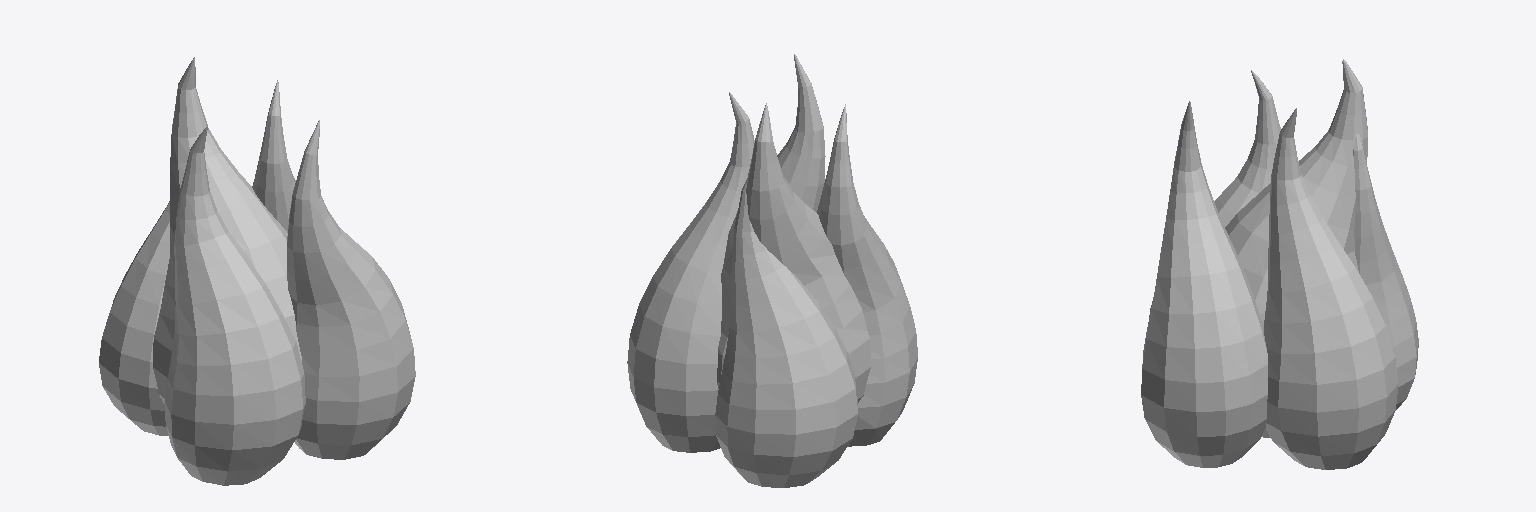
The model's file is fire_000068.obj.
The picture shows the model from 3 angles: view 1: azimuth 30°, elevation 25°; view 2: azimuth 150°, elevation 25°; view 3: azimuth 270°, elevation 25°; orthographic projection.
Visible parts, largest first — view 1: flame_NurbsPath.015; view 2: flame_NurbsPath.015; view 3: flame_NurbsPath.015.
Part boxes in pixels (x1,y1,x2,y2): flame_NurbsPath.015: (99, 57, 415, 485); flame_NurbsPath.015: (627, 54, 917, 487); flame_NurbsPath.015: (1141, 59, 1418, 469).
Bounding box in the file's own units: 0.7562 × 1.16 × 0.7988.